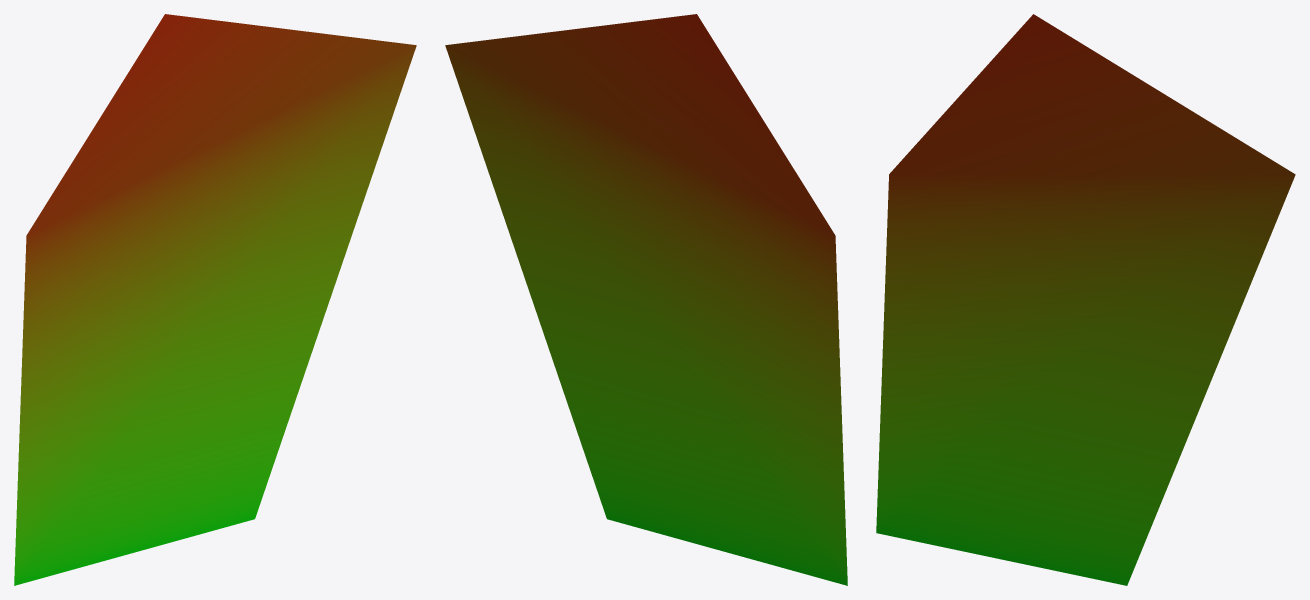
The model's file is Green Herb_LOD3_Var4_tbbpaier.fbx.
The picture shows the model from 3 angles, left to right: view 1: azimuth 30°, elevation 25°; view 2: azimuth 150°, elevation 25°; view 3: azimuth 330°, elevation 25°; orthographic projection. The views are drawn at different scales.
Visible parts, largest first — view 1: _bae9_Var4_LOD3; view 2: _bae9_Var4_LOD3; view 3: _bae9_Var4_LOD3.
Boxes of the visible parts, x1=… form: _bae9_Var4_LOD3: x1=14, y1=14, x2=416, y2=585; _bae9_Var4_LOD3: x1=445, y1=14, x2=847, y2=585; _bae9_Var4_LOD3: x1=876, y1=14, x2=1295, y2=585.
Size of the model in its own units: 11.42 by 14.5 by 5.9e-06.
